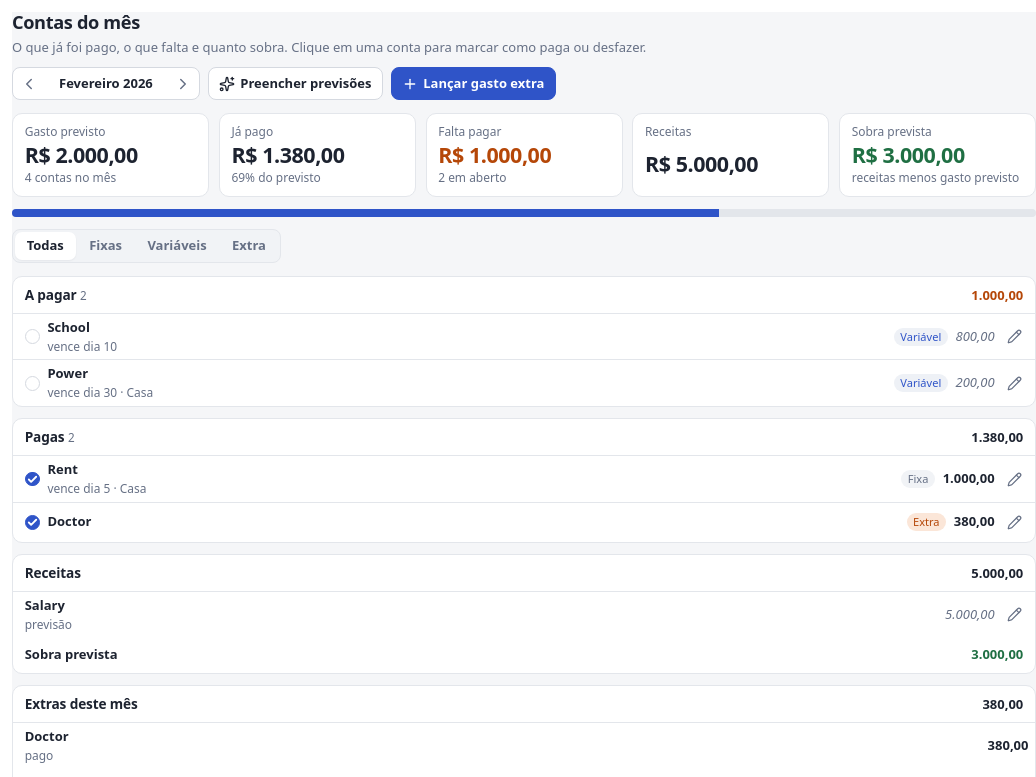
Test: MonthPage › shows the error when a bill cannot be marked
The width and height of the screenshot is (1036, 777).
expect the element "A pagar" is shown: met, box [12,276,1035,407]
Click the button with aria-label "Marcar Power como paga". click: (68, 373)
box: [25,364,995,402]
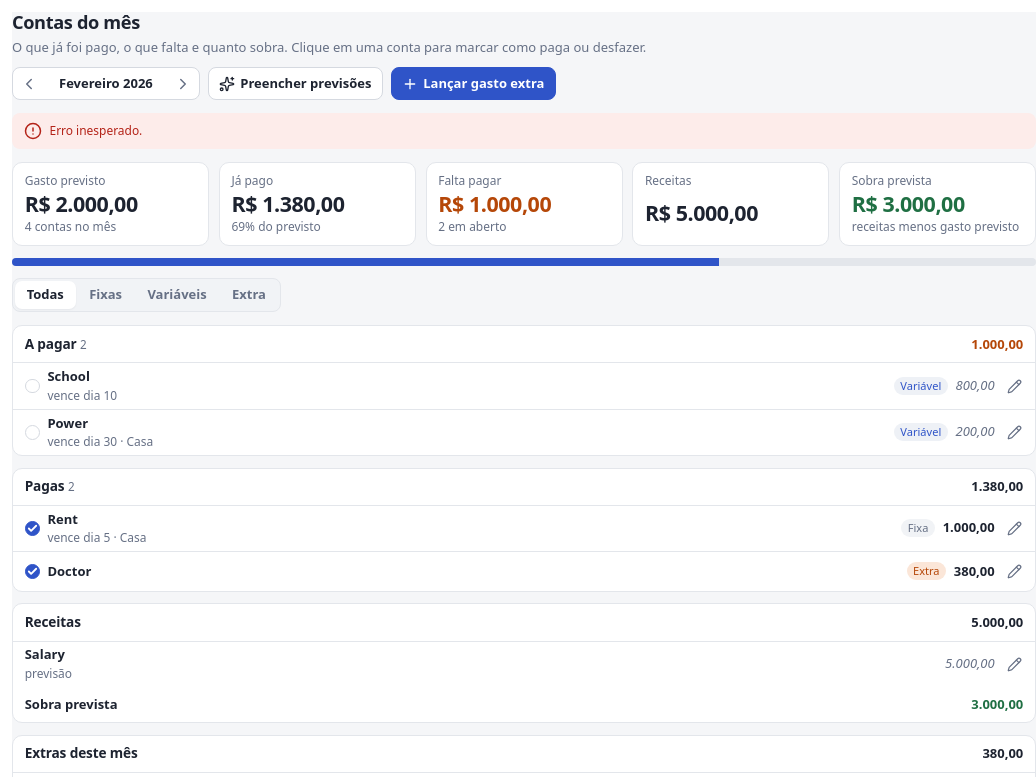
expect the message reads "Erro inesperado.": met, box [50,122,142,139]
